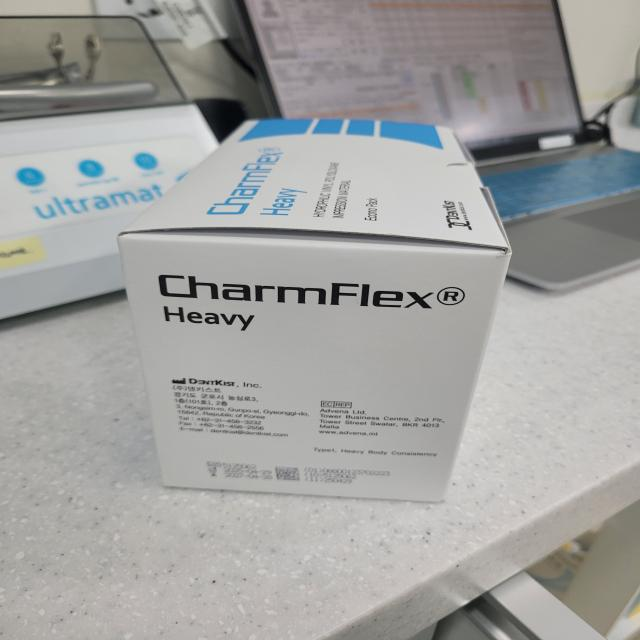impression: (98, 92, 543, 539)
